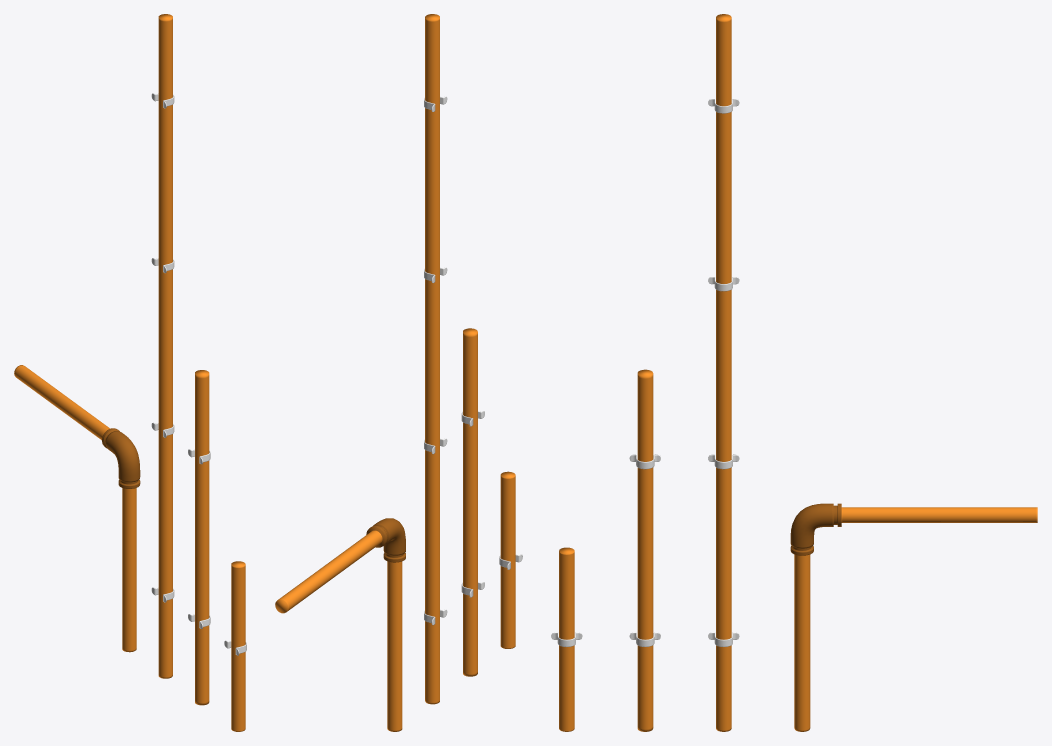
File: Pipes_Copper.fbx
3 views of the same model, side by side, from view 1: azimuth 30°, elevation 25°; view 2: azimuth 150°, elevation 25°; view 3: azimuth 270°, elevation 25° (orthographic). The views are drawn at different scales.
Visible parts, largest first — view 1: Straight Long, 90_Curve, Straight, Straight_Short; view 2: Straight Long, 90_Curve, Straight, Straight_Short; view 3: Straight Long, 90_Curve, Straight, Straight_Short.
Boxes of the visible parts, left/top/right/bottom form: Straight Long: left=151, top=14, right=174, bottom=678; 90_Curve: left=14, top=365, right=140, bottom=652; Straight: left=188, top=370, right=210, bottom=705; Straight_Short: left=224, top=561, right=246, bottom=731; Straight Long: left=424, top=14, right=447, bottom=704; 90_Curve: left=275, top=518, right=405, bottom=731; Straight: left=461, top=328, right=484, bottom=676; Straight_Short: left=499, top=471, right=522, bottom=648; Straight Long: left=708, top=14, right=739, bottom=731; 90_Curve: left=790, top=503, right=1037, bottom=731; Straight: left=629, top=369, right=660, bottom=731; Straight_Short: left=551, top=547, right=582, bottom=731.
Size of the model in its own units: 30 by 1000 by 620.
